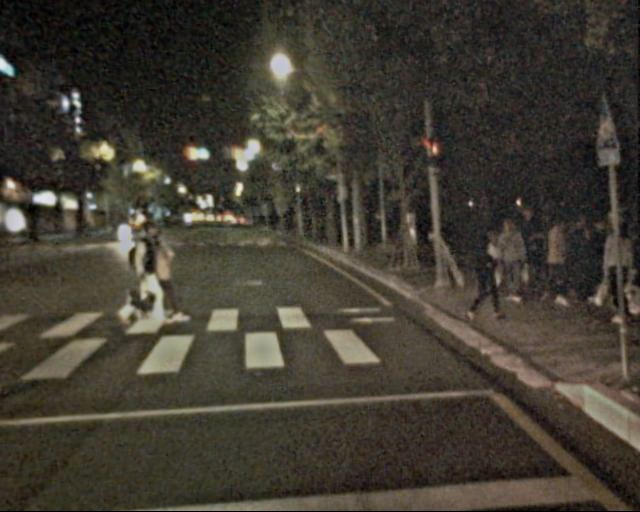person: (550, 210, 599, 308), (463, 224, 507, 331), (598, 224, 640, 328), (124, 220, 166, 323), (140, 231, 176, 320), (495, 215, 529, 298), (515, 210, 548, 290)
